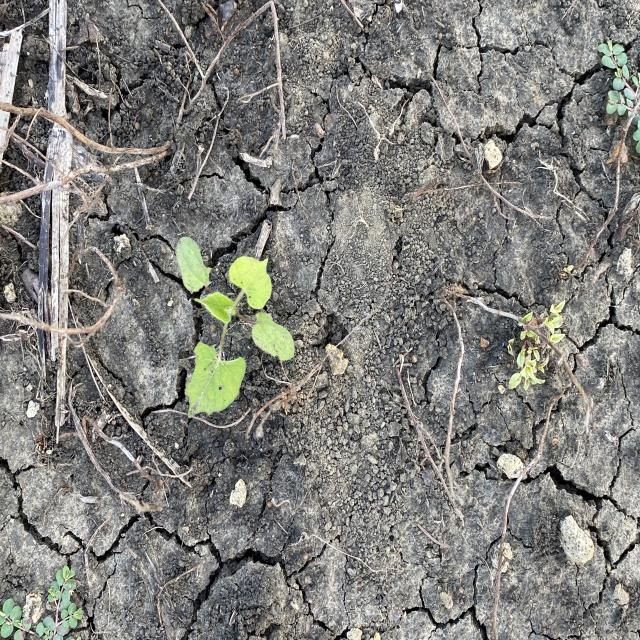MorningGlory: (175, 233, 296, 420)
SpottedSpurge: (0, 565, 84, 639), (597, 37, 639, 154)
